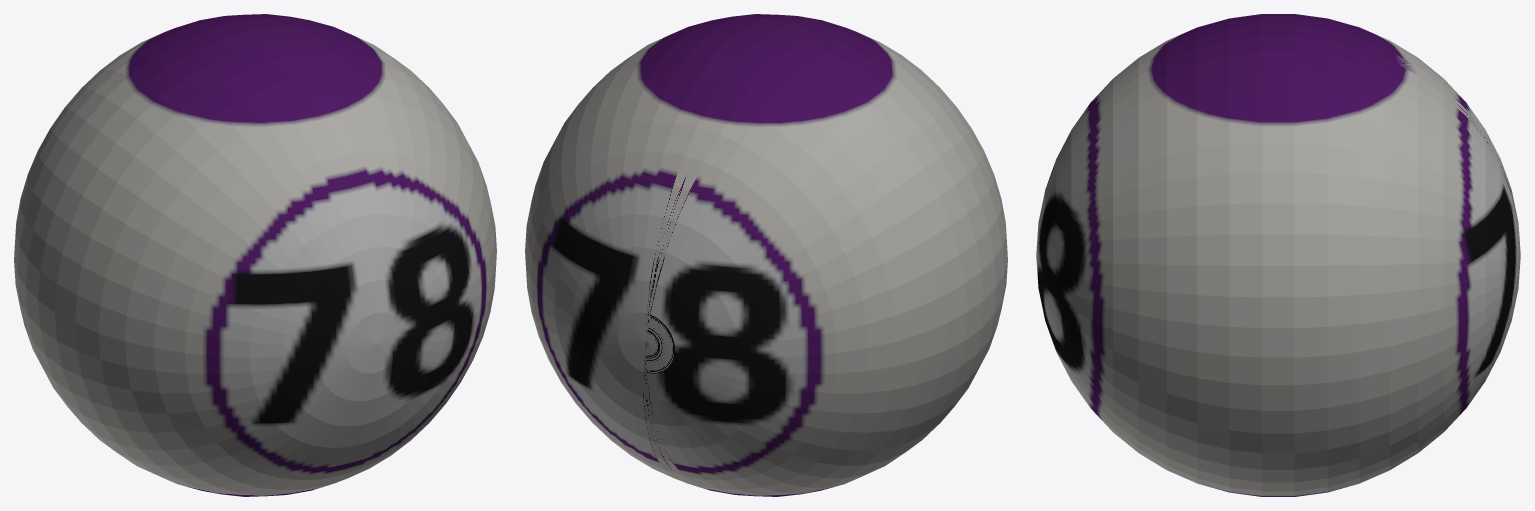
The picture shows the model from 3 angles, left to right: view 1: azimuth 30°, elevation 25°; view 2: azimuth 150°, elevation 25°; view 3: azimuth 270°, elevation 25°; orthographic projection.
Visible parts, largest first — view 1: geometry_0; view 2: geometry_0; view 3: geometry_0.
Boxes of the visible parts, left/top/right/bottom form: geometry_0: left=14, top=14, right=496, bottom=496; geometry_0: left=525, top=14, right=1007, bottom=496; geometry_0: left=1036, top=14, right=1520, bottom=496.
Bounding box in the file's own units: 0.0599 × 0.0599 × 0.06.
Materials: 1 (1 with a texture image).
